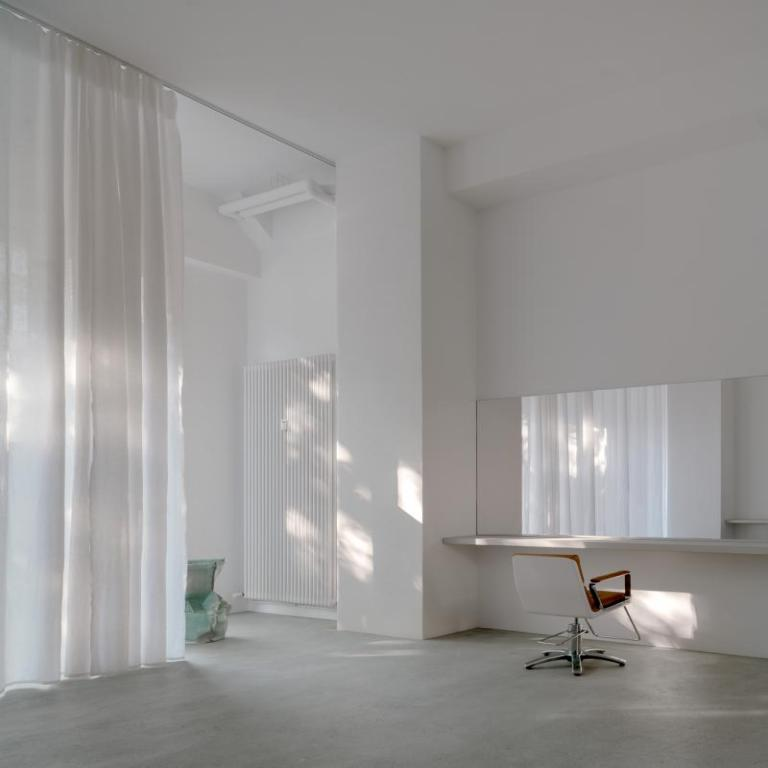white-walls: (169, 20, 738, 609)
